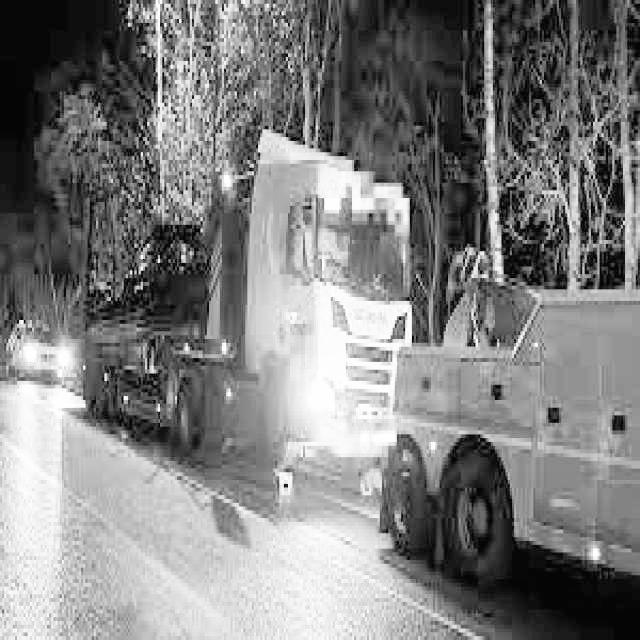Truck: (79, 126, 412, 511)
